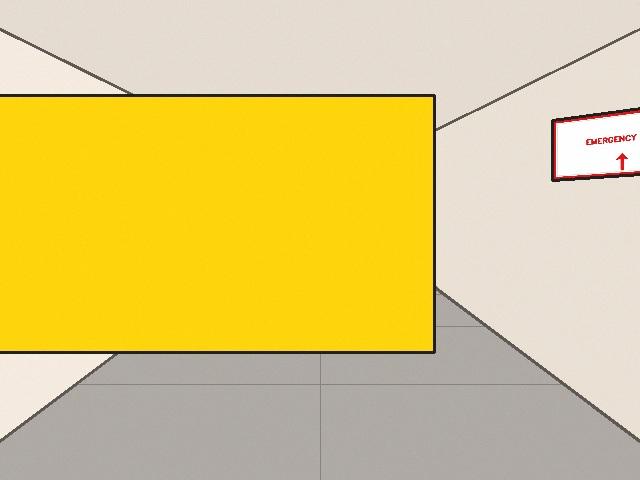charging_station: (82, 111, 201, 309)
directional_sign: (552, 100, 639, 180)
forklift: (0, 95, 434, 352)
hospital_bed: (322, 201, 434, 278)
